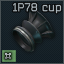NPZ 1P78 scope eyecup: (0, 0, 64, 64)
